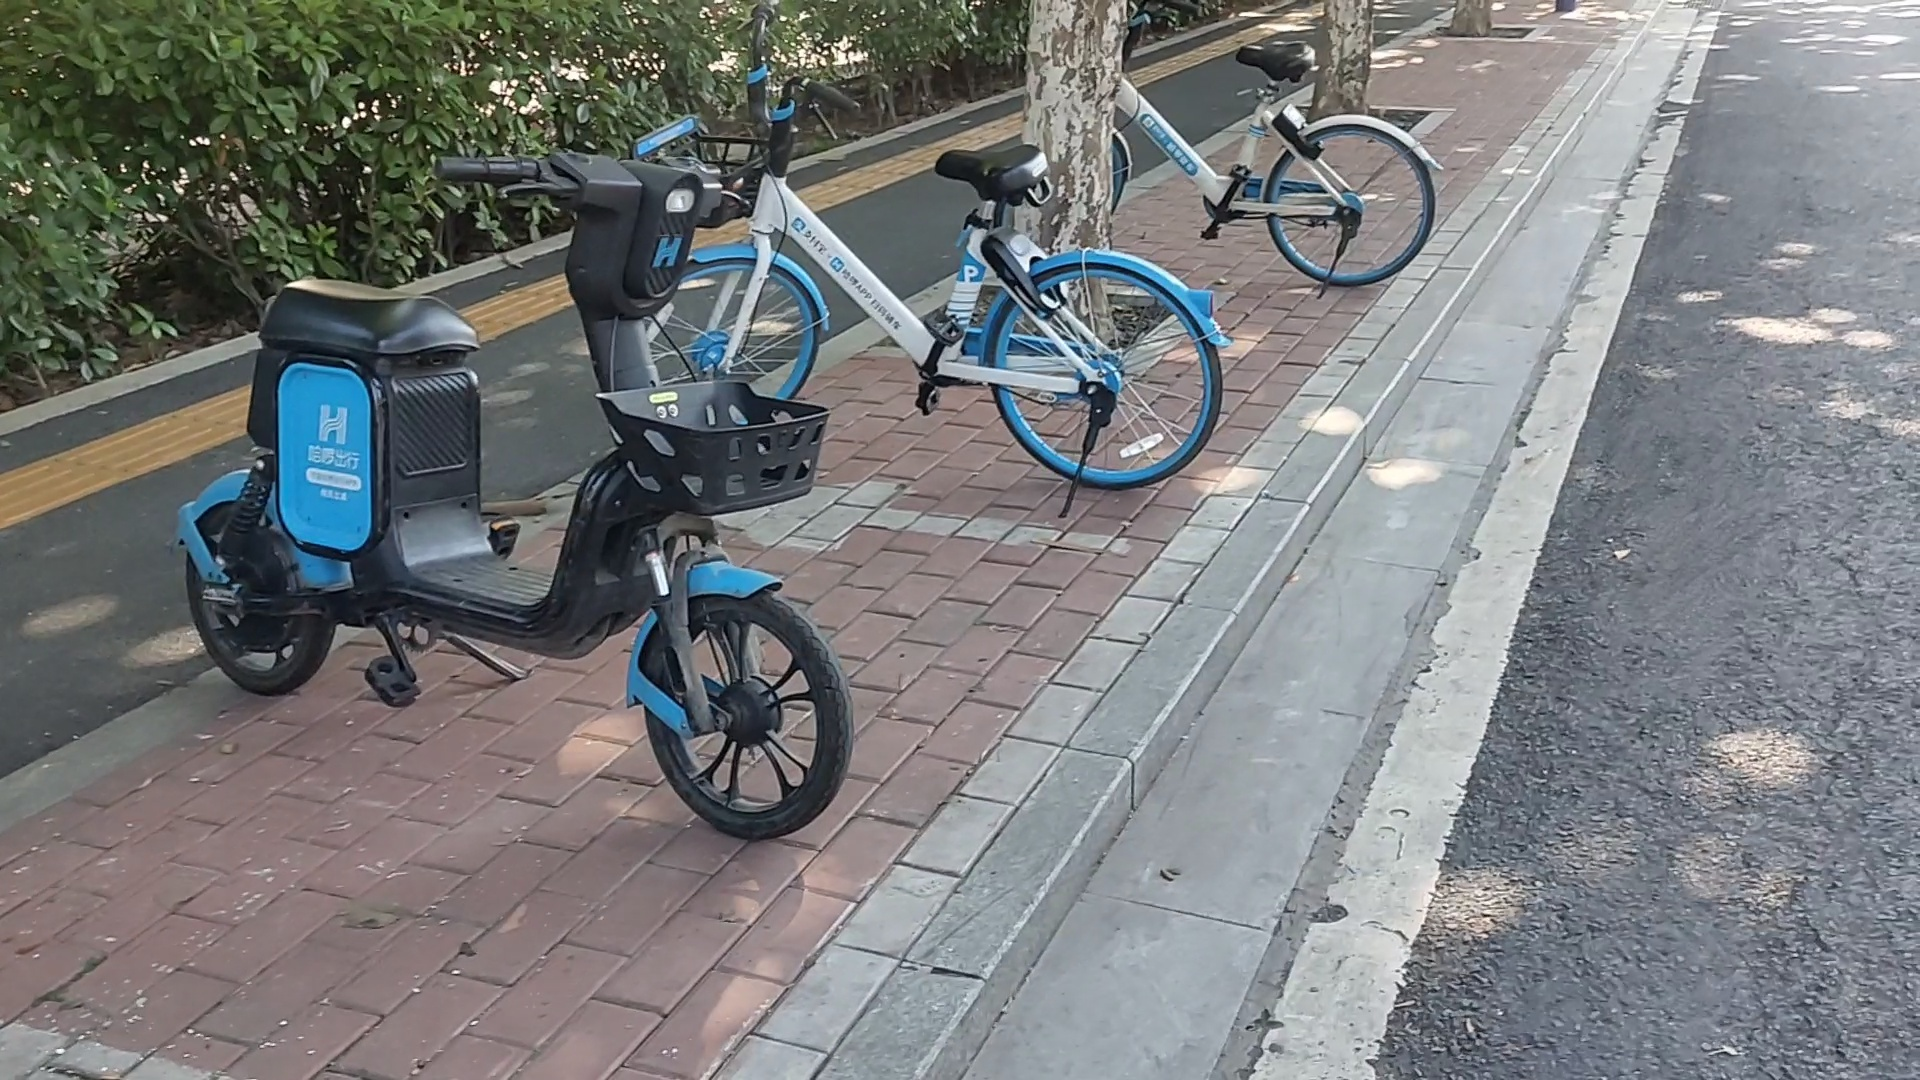non-vehicle: (181, 102, 852, 866), (646, 17, 1230, 502), (1071, 7, 1453, 291)
